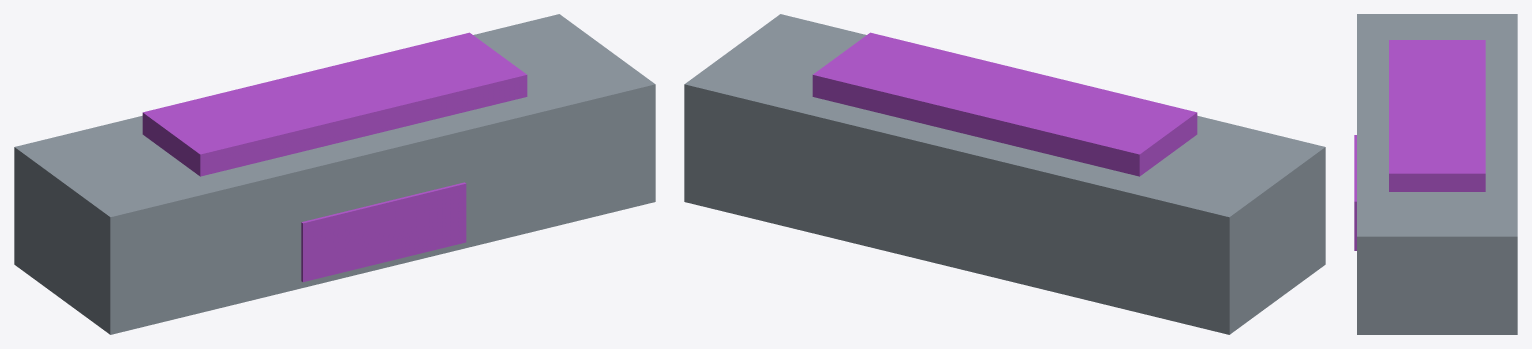
File: SM_Chronolegion_CH_AttractorArk_Blockout.fbx
The picture shows the model from 3 angles, left to right: view 1: azimuth 30°, elevation 25°; view 2: azimuth 150°, elevation 25°; view 3: azimuth 270°, elevation 25°; orthographic projection. The views are drawn at different scales.
Visible parts, largest first — view 1: MainBuilding, RoofStructure, EntranceGate; view 2: MainBuilding, RoofStructure; view 3: MainBuilding, RoofStructure, EntranceGate.
Boxes of the visible parts, <box> form: MainBuilding: <box>14,14,655,334</box>; RoofStructure: <box>142,32,527,176</box>; EntranceGate: <box>301,182,466,282</box>; MainBuilding: <box>684,14,1325,334</box>; RoofStructure: <box>812,32,1197,176</box>; MainBuilding: <box>1357,14,1517,334</box>; RoofStructure: <box>1389,40,1485,191</box>; EntranceGate: <box>1354,135,1356,250</box>.
Bounding box in the file's own units: 1900 × 466 × 590.
